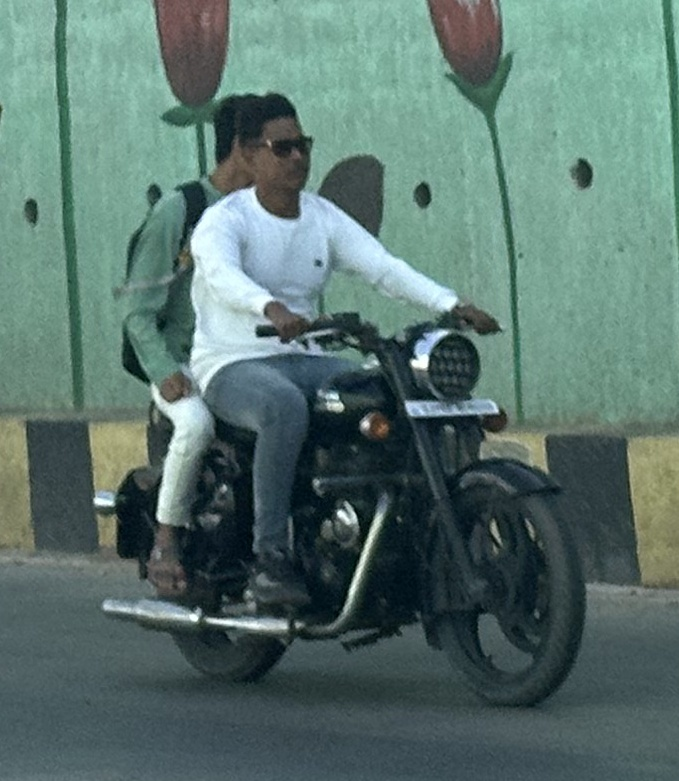BikeWithRider: (83, 79, 600, 715)
NoHelmet: (229, 85, 321, 206), (203, 85, 273, 192)
